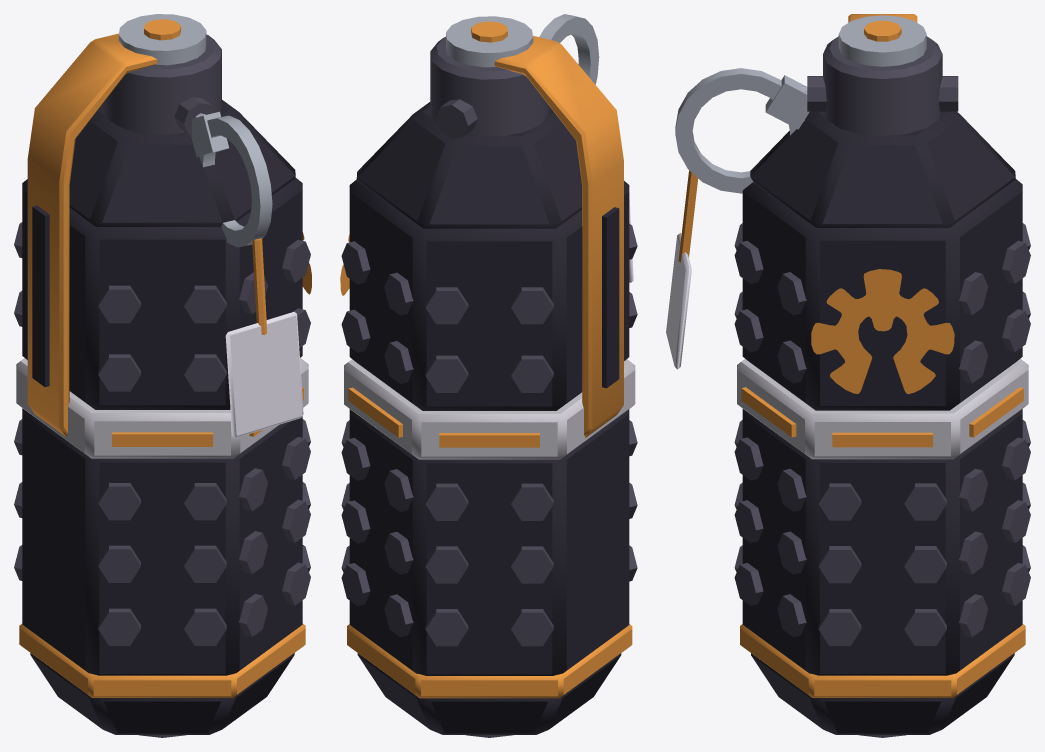
The model's file is r41_grenade.glb.
3 views of the same model, side by side, from view 1: azimuth 30°, elevation 25°; view 2: azimuth 150°, elevation 25°; view 3: azimuth 270°, elevation 25° (orthographic).
Parts seen in each view (by area): view 1: r41_grenade_shell, r41_grenade_metal, lever, pin, r41_grenade_amber, r41_grenade_light, r41_grenade_steel; view 2: r41_grenade_shell, r41_grenade_metal, lever, r41_grenade_light, r41_grenade_amber, r41_grenade_steel, pin; view 3: r41_grenade_shell, r41_grenade_metal, r41_grenade_light, r41_grenade_amber, pin, r41_grenade_decals, r41_grenade_steel.
Boxes of the visible parts, box(x1,y1,x2,y2) form: r41_grenade_shell: box(22, 100, 302, 734); r41_grenade_metal: box(14, 34, 310, 737); lever: box(27, 33, 157, 436); pin: box(191, 111, 303, 438); r41_grenade_amber: box(19, 19, 305, 697); r41_grenade_light: box(16, 358, 308, 458); r41_grenade_steel: box(118, 14, 206, 65); r41_grenade_shell: box(349, 102, 629, 734); r41_grenade_metal: box(341, 36, 637, 737); lever: box(494, 35, 623, 437); r41_grenade_light: box(344, 359, 635, 459); r41_grenade_amber: box(347, 21, 632, 698); r41_grenade_steel: box(446, 16, 533, 67); pin: box(539, 14, 633, 282); r41_grenade_shell: box(742, 111, 1022, 734); r41_grenade_metal: box(734, 36, 1030, 737); r41_grenade_light: box(737, 358, 1028, 459); r41_grenade_amber: box(740, 21, 1025, 697); pin: box(666, 68, 809, 369); r41_grenade_decals: box(811, 269, 954, 394); r41_grenade_steel: box(838, 15, 926, 66).
Size of the model in its own units: 0.044 by 0.1209 by 0.058.
